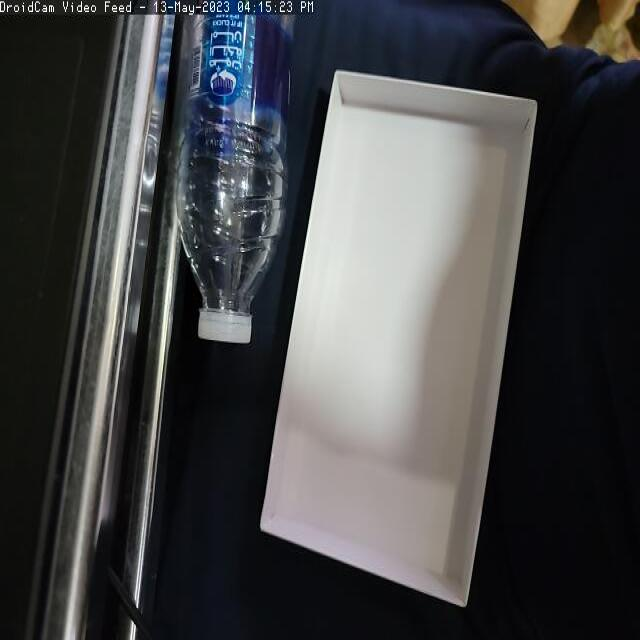Anorganik: (169, 12, 298, 348)
Organik: (257, 68, 542, 612)
